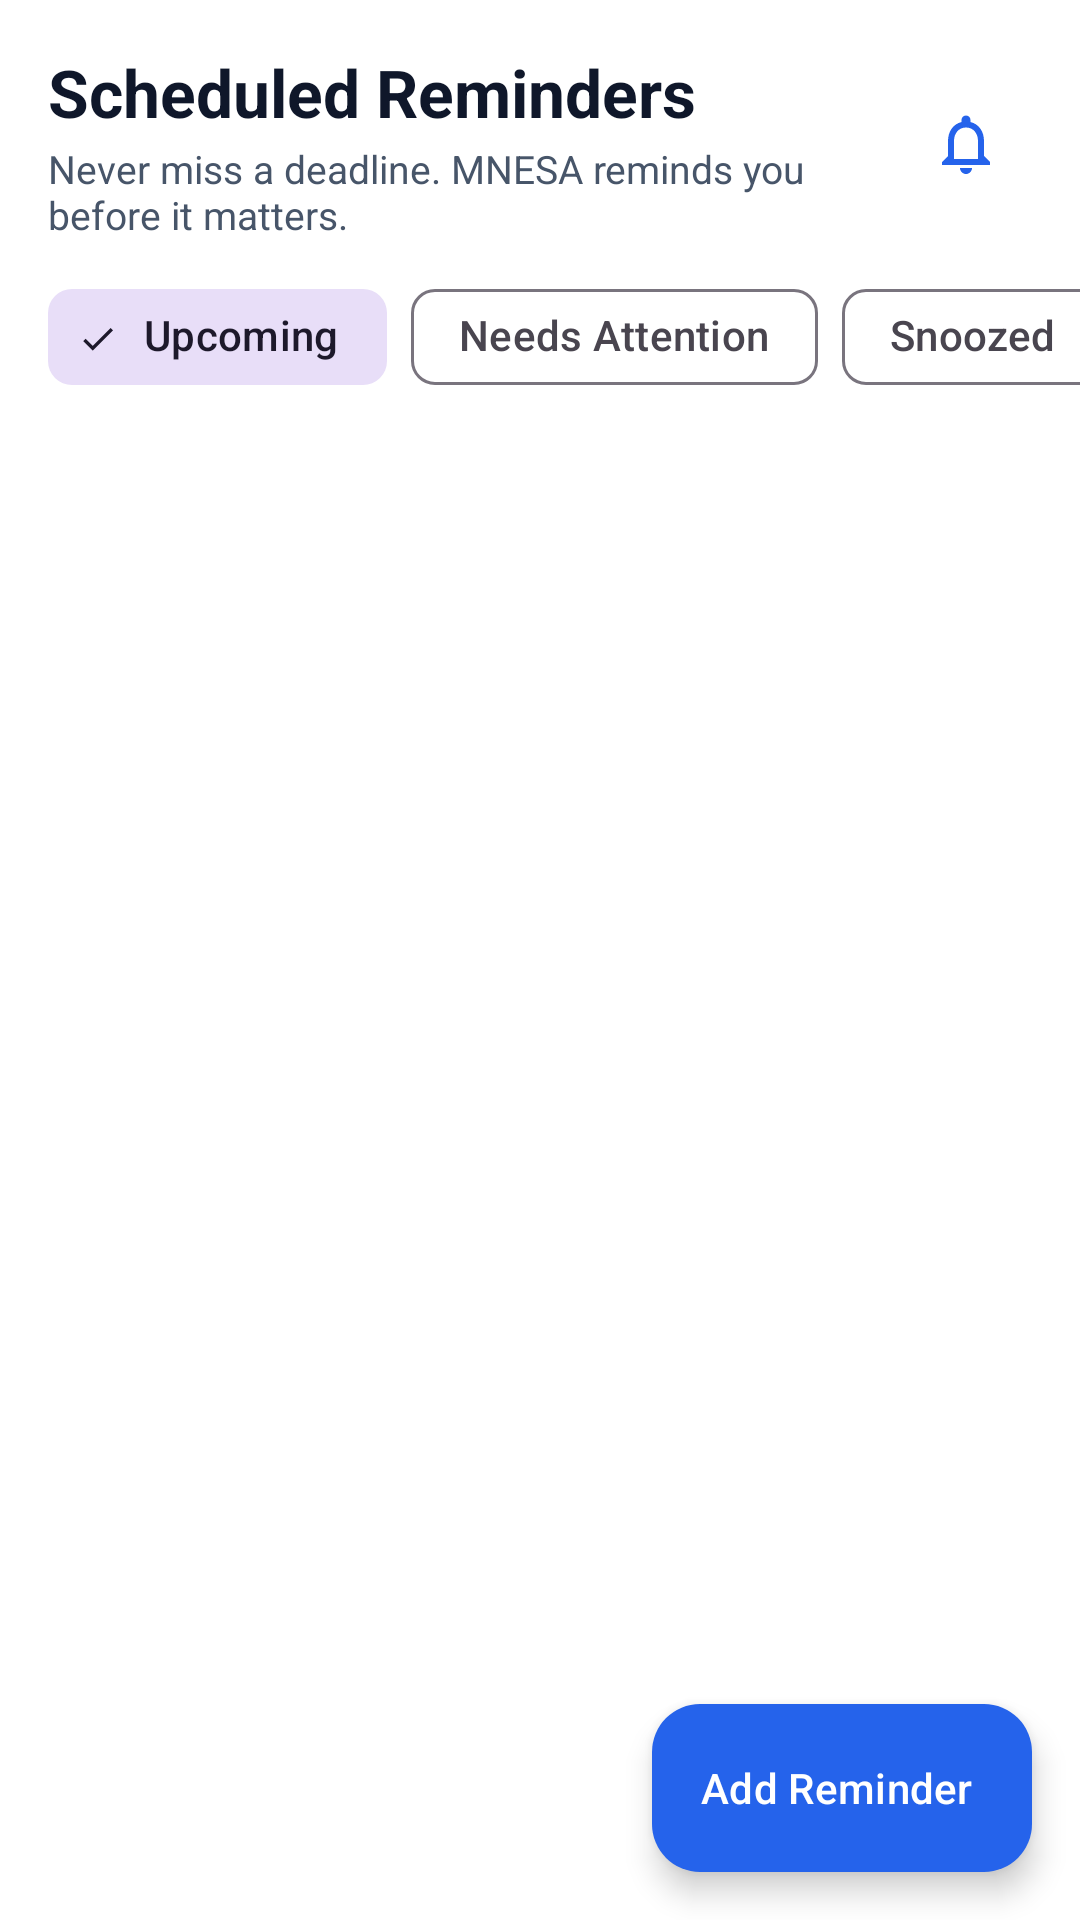

Point at icon controls on the screen. Image size 1080px×1920px, points as [x,y].
Notifications: [966,144]
